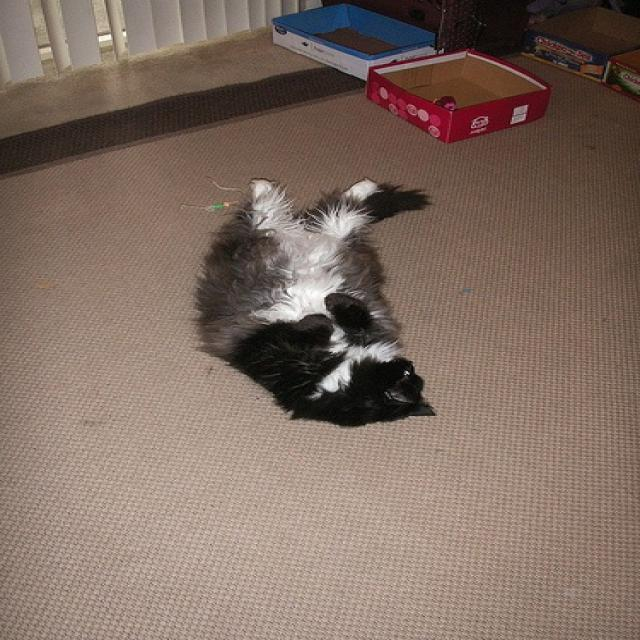cat: (194, 171, 437, 429)
